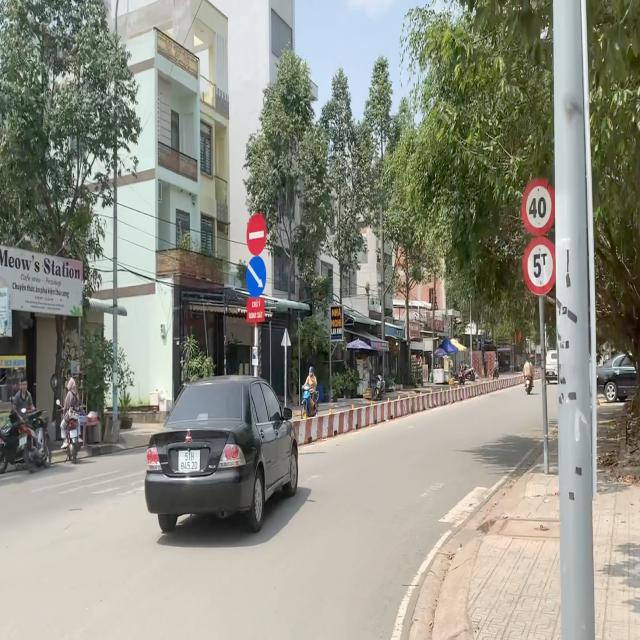Cam nguoc chieu: (246, 211, 267, 257)
Hieu lenh: (246, 254, 266, 300)
Toc do toi da: (523, 179, 554, 235)
Trong tai toi da: (523, 236, 556, 294)
